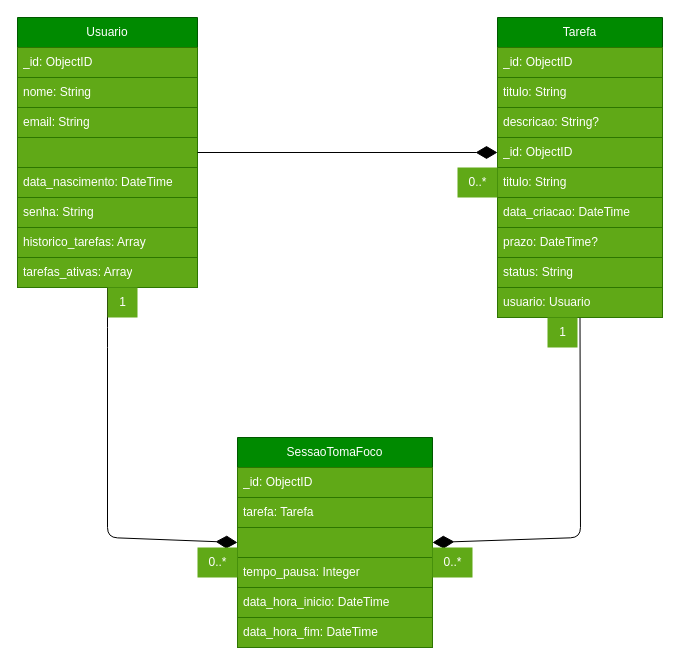
Image size: 680x665. Some labels were removed from this diagram. The centre of each missing label's shape, as x and y in pixels:
telefone: String?: the point at 107,152
tempo_foco: Integer: the point at 334,542
